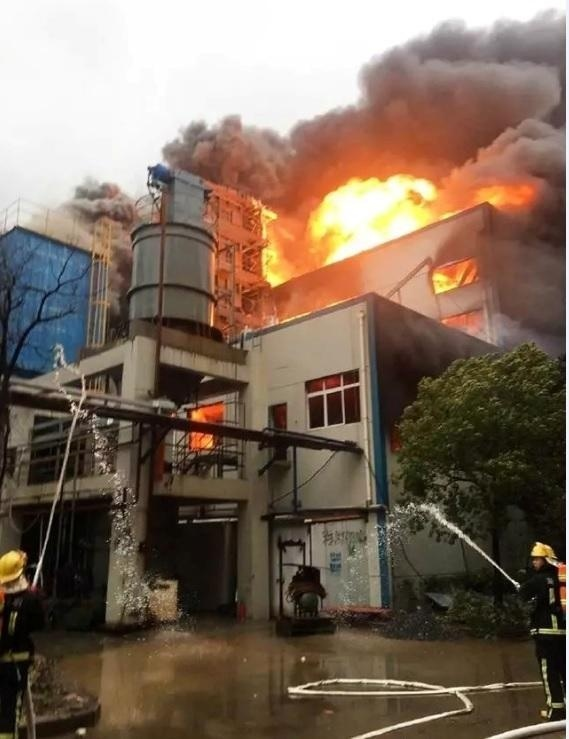fire: (255, 170, 439, 280), (183, 403, 221, 450), (430, 256, 475, 292)
